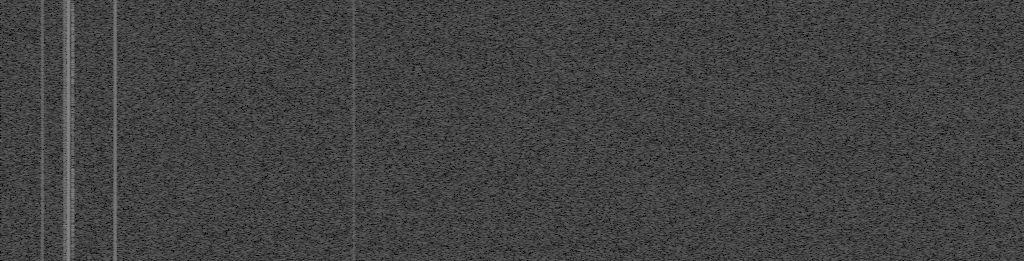wv_am: (351, 0, 356, 261)
wv_cw: (112, 0, 118, 261), (65, 0, 71, 261), (62, 0, 67, 261), (40, 0, 45, 261)
wv_lsb: (65, 2, 70, 99), (65, 153, 70, 234), (63, 83, 67, 153), (65, 100, 70, 152), (62, 220, 67, 261), (63, 3, 67, 26), (65, 235, 70, 249), (63, 59, 67, 75), (63, 197, 67, 212), (65, 250, 69, 261), (63, 30, 67, 39), (63, 40, 67, 47), (63, 163, 66, 172), (63, 154, 67, 160), (63, 77, 67, 82), (63, 192, 67, 196), (63, 54, 67, 58), (63, 188, 67, 191), (63, 184, 67, 187)
wv_usb: (64, 2, 69, 261), (70, 131, 76, 261), (70, 2, 76, 84), (70, 85, 76, 130)
